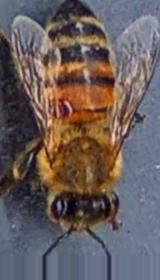varroa_mite: (40, 85, 78, 119)
